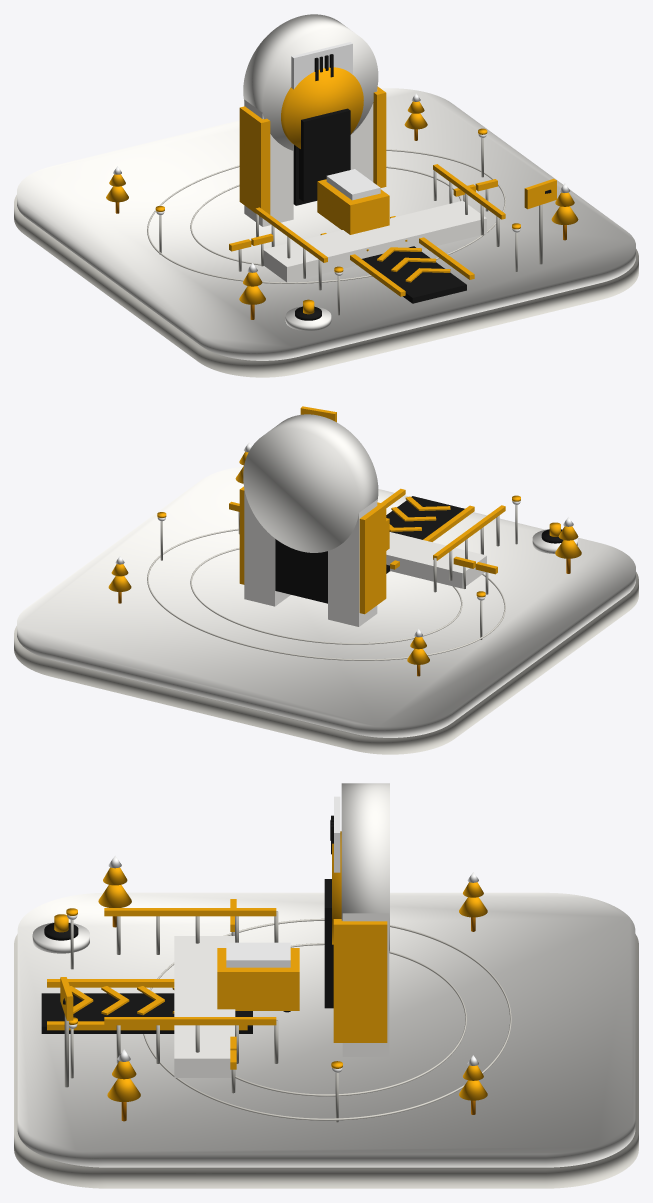
File: zona_metro.glb
3 views of the same model, one above another, from view 1: azimuth 30°, elevation 25°; view 2: azimuth 150°, elevation 25°; view 3: azimuth 270°, elevation 25° (orthographic). The views are drawn at different scales.
Parts seen in each view (by area): view 1: rounded metro modular platform top, soft grey metro platform side, large rounded white metro arch crown, raised white metro platform deck, yellow rounded metro inner crown, black tunnel cutback, yellow metro arch left trim, black metro track center, small yellow metro train body, white metro arch left pillar, white face panel for M, yellow metro arch right trim (+9 smaller); view 2: rounded metro modular platform top, large rounded white metro arch crown, soft grey metro platform side, raised white metro platform deck, white metro arch left pillar, white metro arch right pillar, yellow metro arch left trim, black metro tunnel opening, black metro track center, subtle metro paving guide.001, subtle metro paving guide, yellow metro railing top (+2 smaller); view 3: rounded metro modular platform top, soft grey metro platform side, raised white metro platform deck, yellow metro arch right trim, large rounded white metro arch crown, small yellow metro train body, black metro track center, subtle metro paving guide.001, white metro train roof, yellow metro railing top, yellow metro railing top.001, white metro arch right pillar (+8 smaller).
Part boxes in pixels (left/top/right/bottom): rounded metro modular platform top: left=17, top=88, right=635, bottom=360; soft grey metro platform side: left=14, top=195, right=638, bottom=377; large rounded white metro arch crown: left=243, top=14, right=378, bottom=150; raised white metro platform deck: left=263, top=200, right=486, bottom=282; yellow rounded metro inner crown: left=281, top=67, right=363, bottom=148; black tunnel cutback: left=299, top=108, right=350, bottom=201; yellow metro arch left trim: left=239, top=106, right=270, bottom=216; black metro track center: left=362, top=246, right=466, bottom=303; small yellow metro train body: left=317, top=179, right=389, bottom=234; white metro arch left pillar: left=244, top=99, right=293, bottom=226; white face panel for M: left=291, top=42, right=352, bottom=89; yellow metro arch right trim: left=373, top=86, right=386, bottom=187; rounded metro modular platform top: left=17, top=466, right=635, bottom=737; large rounded white metro arch crown: left=243, top=414, right=378, bottom=552; soft grey metro platform side: left=14, top=572, right=638, bottom=754; raised white metro platform deck: left=386, top=532, right=486, bottom=588; white metro arch left pillar: left=328, top=500, right=377, bottom=626; white metro arch right pillar: left=244, top=489, right=290, bottom=606; yellow metro arch left trim: left=359, top=502, right=386, bottom=614; black metro tunnel opening: left=275, top=539, right=327, bottom=603; black metro track center: left=386, top=496, right=464, bottom=573; subtle metro paving guide.001: left=147, top=528, right=505, bottom=660; subtle metro paving guide: left=190, top=547, right=462, bottom=644; yellow metro railing top: left=433, top=505, right=505, bottom=560; rounded metro modular platform top: left=17, top=892, right=635, bottom=1167; soft grey metro platform side: left=14, top=934, right=638, bottom=1188; raised white metro platform deck: left=174, top=936, right=235, bottom=1077; yellow metro arch right trim: left=333, top=919, right=387, bottom=1042; large rounded white metro arch crown: left=341, top=783, right=389, bottom=951; small yellow metro train body: left=217, top=948, right=299, bottom=1010; black metro track center: left=41, top=993, right=252, bottom=1033; subtle metro paving guide.001: left=143, top=918, right=511, bottom=1120; white metro train roof: left=226, top=942, right=290, bottom=967; yellow metro railing top: left=104, top=908, right=276, bottom=916; yellow metro railing top.001: left=104, top=1017, right=276, bottom=1025; white metro arch right pillar: left=342, top=913, right=389, bottom=1056.
Bounding box in the file's own units: 3.49 × 1.66 × 3.49.
